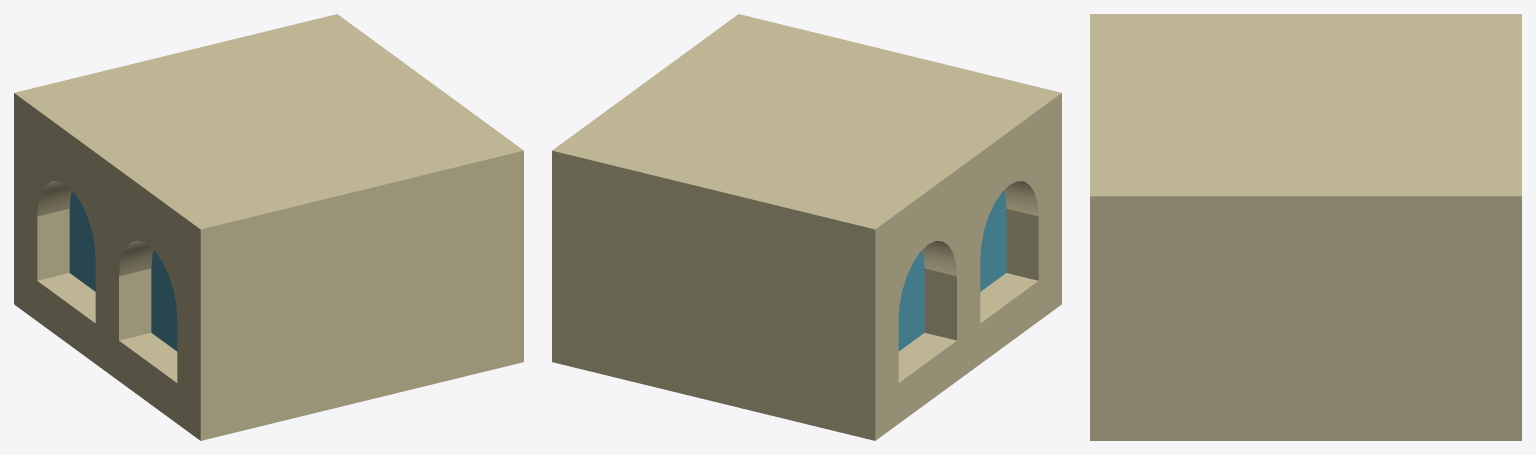
3 renders of one model, left to right at view 1: azimuth 30°, elevation 25°; view 2: azimuth 150°, elevation 25°; view 3: azimuth 270°, elevation 25°, orthographic. The views are drawn at different scales.
Visible parts, largest first — view 1: G-__555816_G-__555816_Brick, G-__555816_G-__555816_Glass; view 2: G-__555816_G-__555816_Brick, G-__555816_G-__555816_Glass; view 3: G-__555816_G-__555816_Brick.
Boxes of the visible parts, box(x1,y1,x2,y2) form: G-__555816_G-__555816_Brick: box(14, 14, 523, 440); G-__555816_G-__555816_Glass: box(69, 191, 177, 351); G-__555816_G-__555816_Brick: box(552, 14, 1061, 440); G-__555816_G-__555816_Glass: box(898, 191, 1006, 351); G-__555816_G-__555816_Brick: box(1090, 14, 1521, 440).
Bounding box in the file's own units: 1 × 0.625 × 1.
